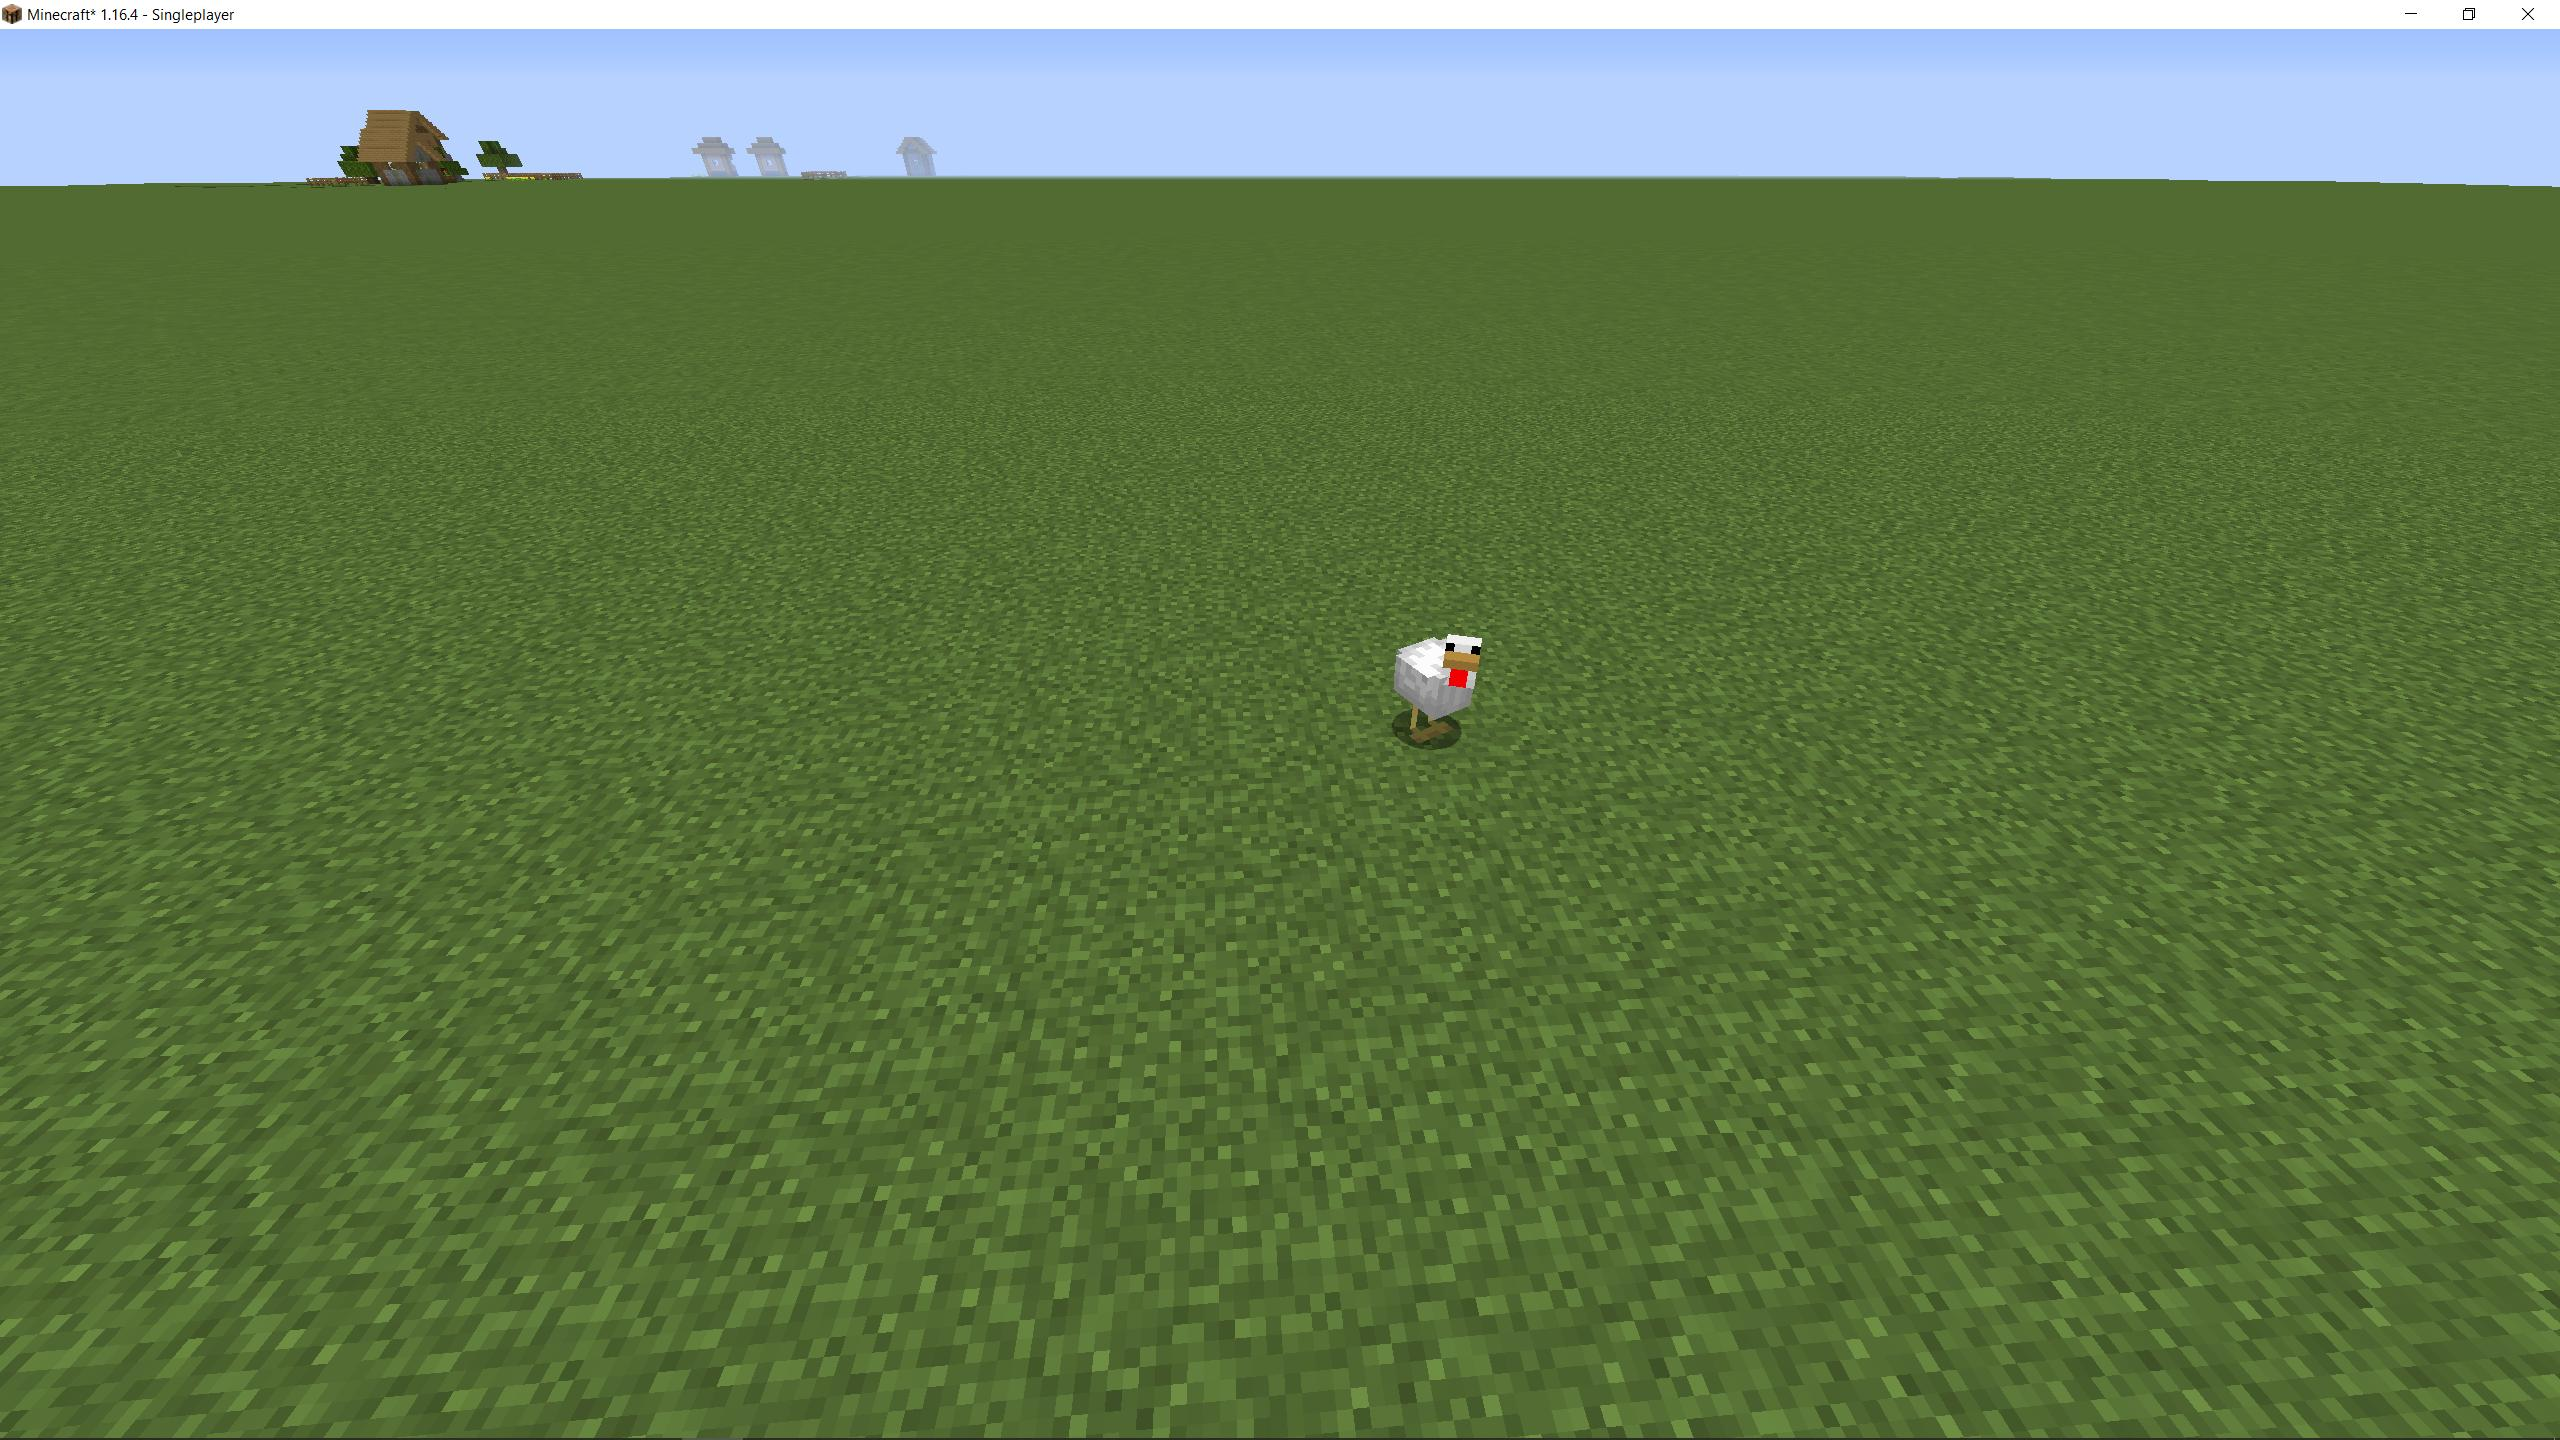chicken: (1385, 628, 1491, 745)
